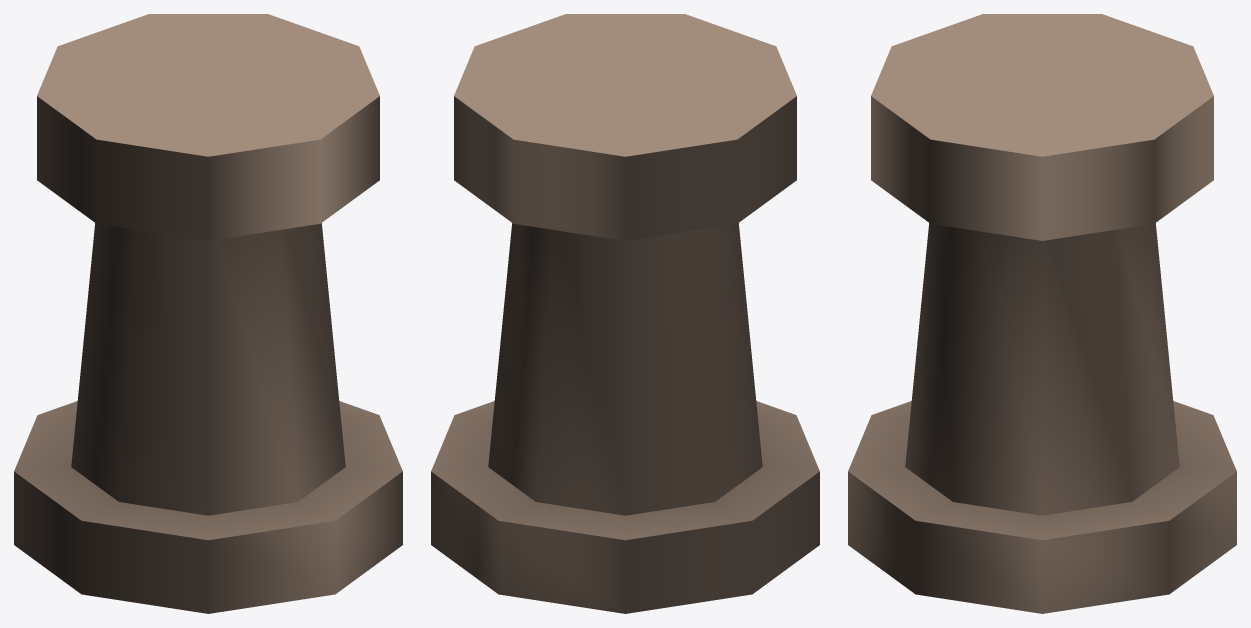
The model's file is mooring_bollard.lod1.glb.
3 renders of one model, left to right at view 1: azimuth 30°, elevation 25°; view 2: azimuth 150°, elevation 25°; view 3: azimuth 270°, elevation 25°, orthographic.
Visible parts, largest first — view 1: props_mooring_bollard.lod1; view 2: props_mooring_bollard.lod1; view 3: props_mooring_bollard.lod1.
Boxes of the visible parts, x1,y1,x2,y2 form: props_mooring_bollard.lod1: (14,14,402,613); props_mooring_bollard.lod1: (431,14,819,613); props_mooring_bollard.lod1: (848,14,1236,613).
Bounding box in the file's own units: 0.6595 × 0.85 × 0.6697.
